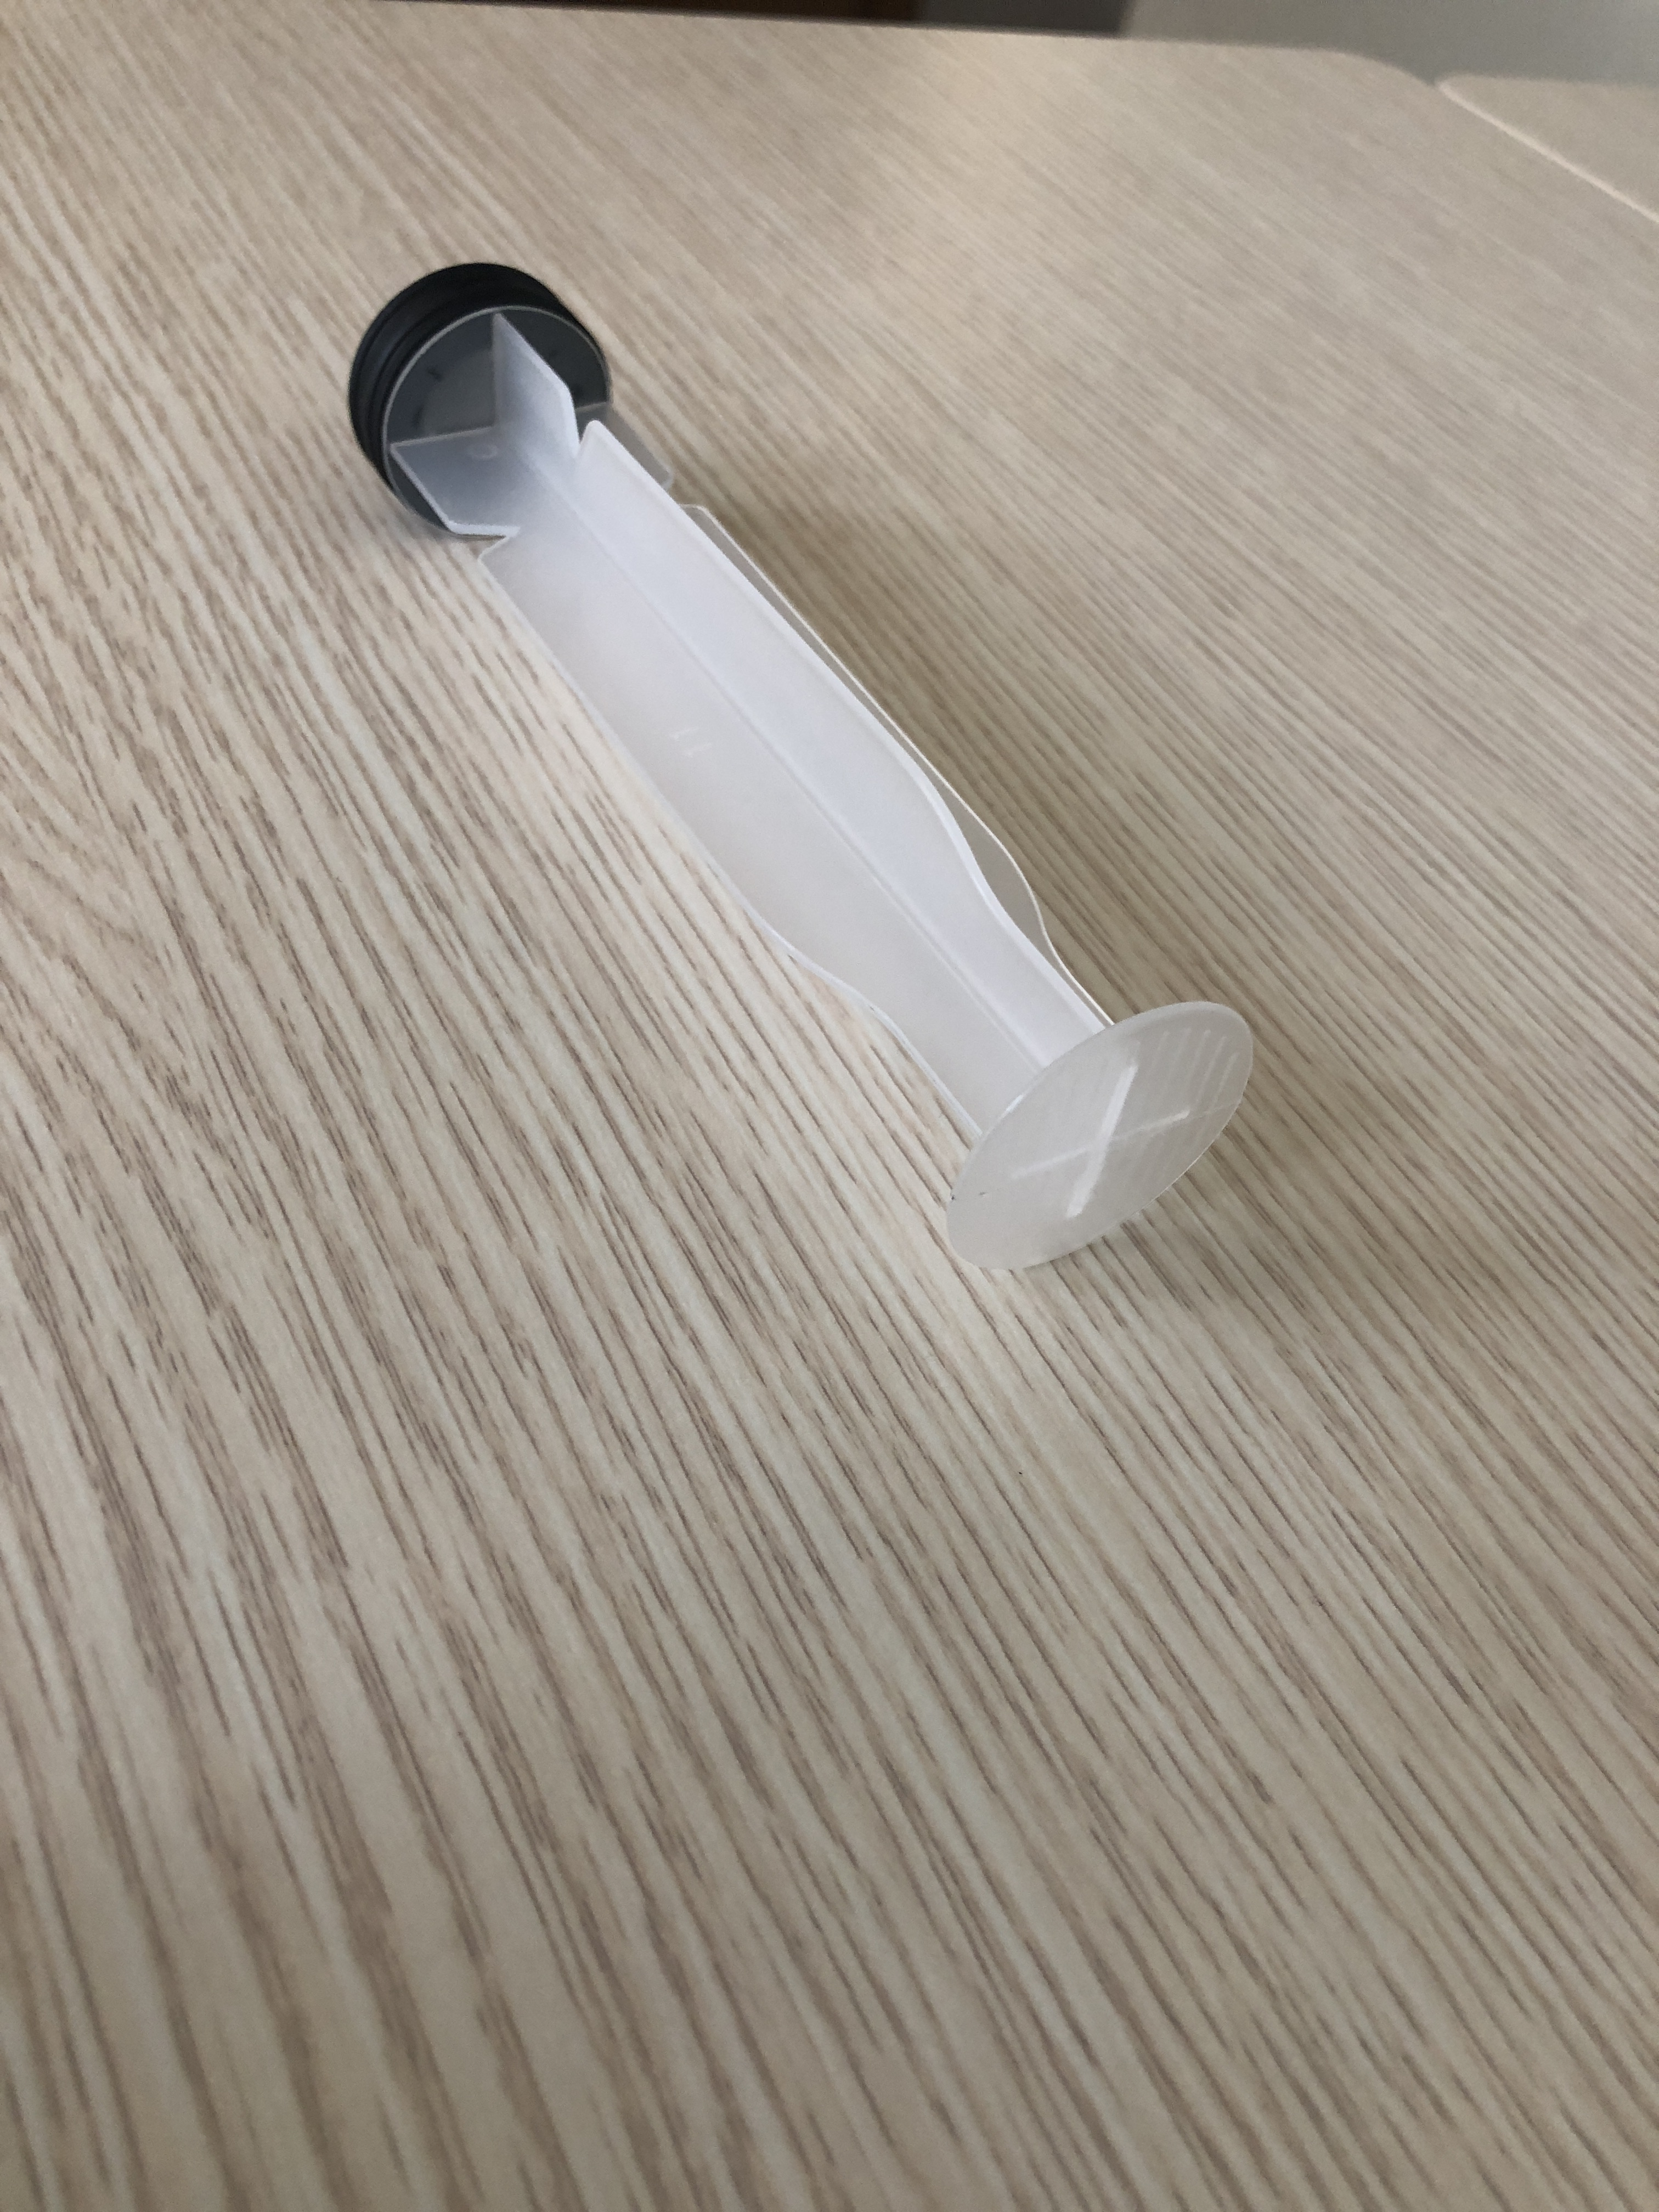plunger: (336, 244, 1260, 1271)
